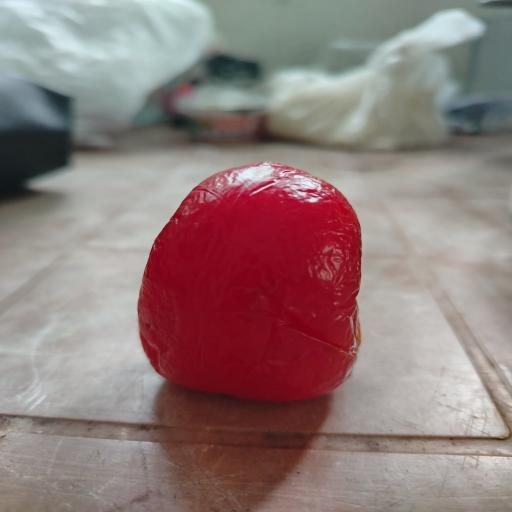spoiled: (138, 163, 361, 401)
